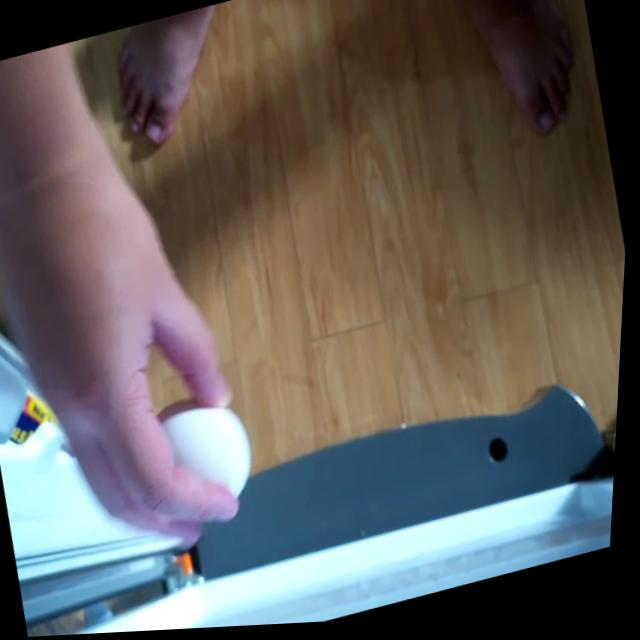egg: (154, 389, 270, 521)
